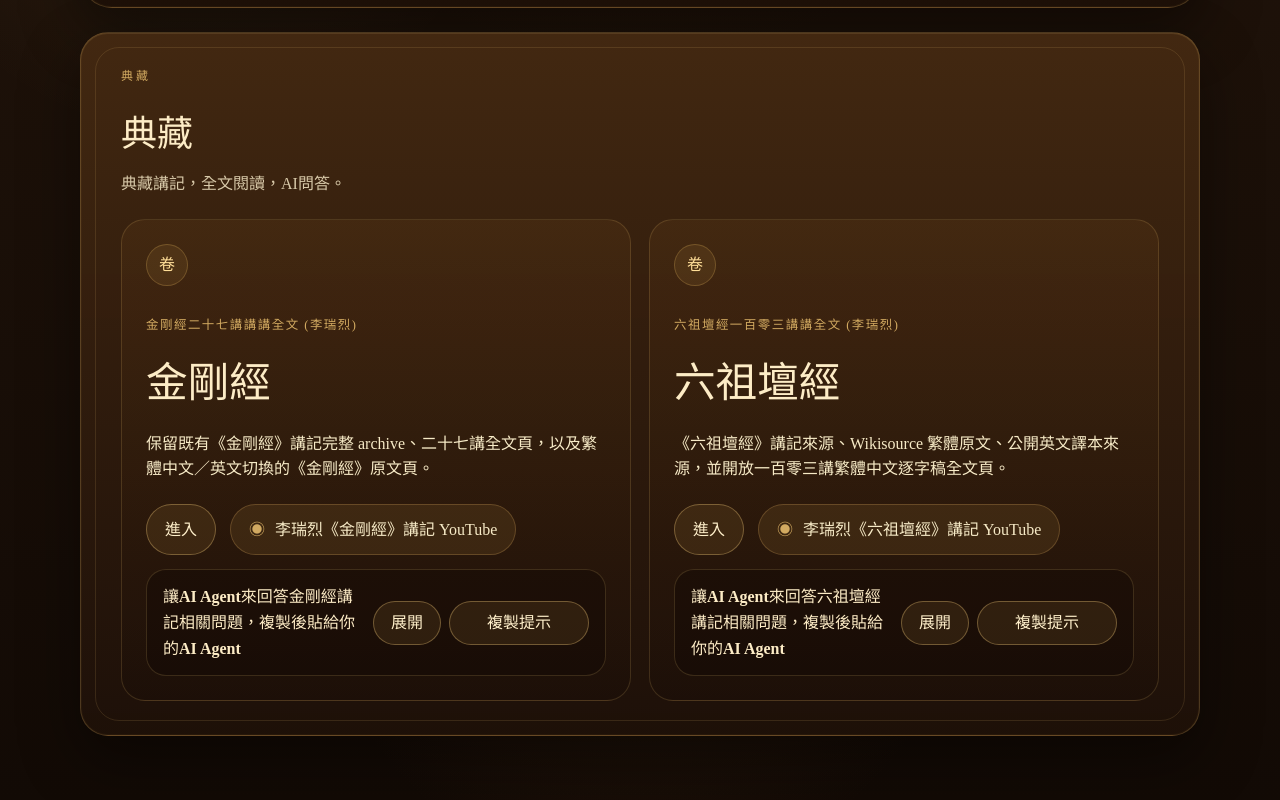
App › copies a book-card CLI prompt from the landing page
This screenshot has width=1280, height=800.
(page scrolled)
Click the button "複製提示" in the row of "讓AI Agent來回答六祖壇經講記相關問題，複製後貼給你的AI Agent": (1047, 623) [977,601,1117,644]
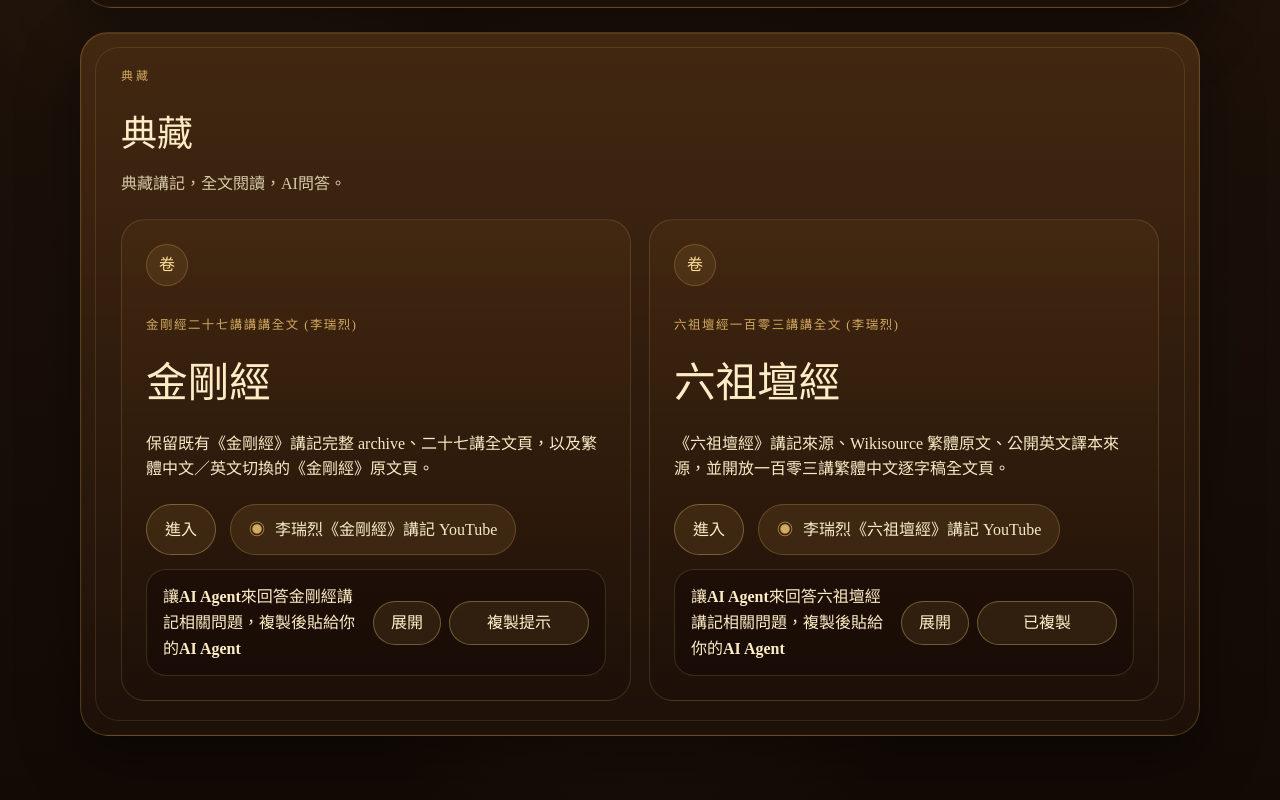
Expected: the button "已複製" is shown, [977,601,1117,644]
